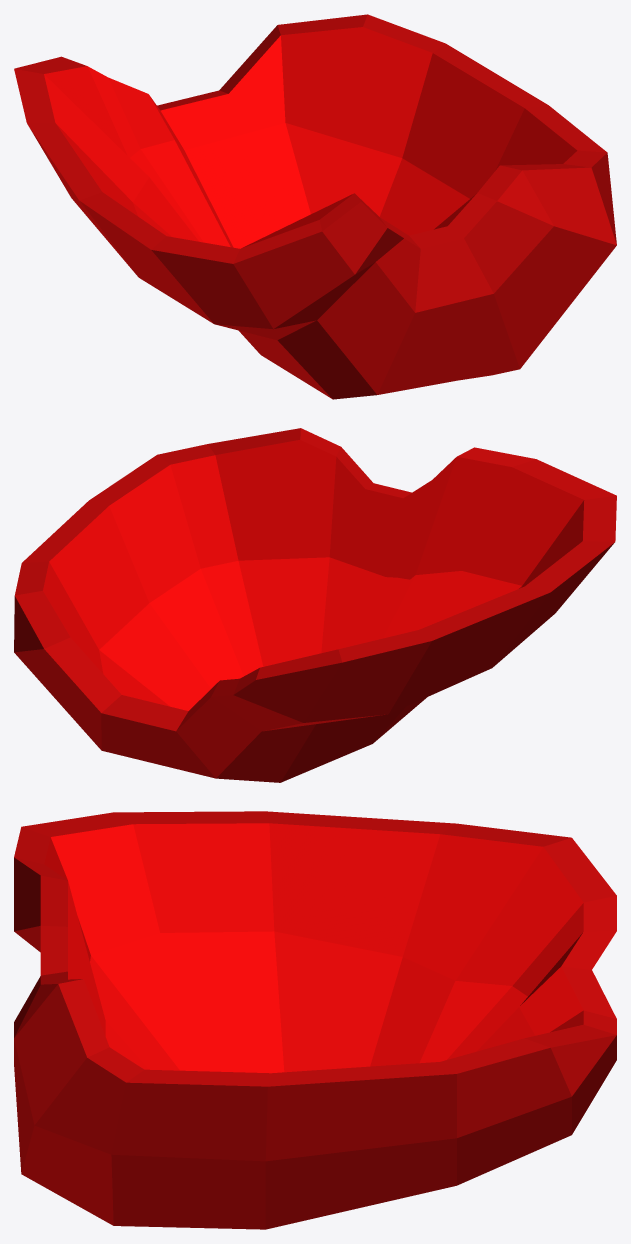
Rendered from pepperfruit02.gltf.
3 views of the same model, one above another, from view 1: azimuth 30°, elevation 25°; view 2: azimuth 150°, elevation 25°; view 3: azimuth 270°, elevation 25° (orthographic). The views are drawn at different scales.
Parts seen in each view (by area): view 1: Cylinder.001; view 2: Cylinder.001; view 3: Cylinder.001.
Part boxes in pixels (x1,y1,x2,y2): Cylinder.001: (14,14,616,399); Cylinder.001: (14,428,616,782); Cylinder.001: (14,811,616,1229).
Size of the model in its own units: 0.0765 by 0.0374 by 0.0771.
Materials: 1 (1 with a texture image).
